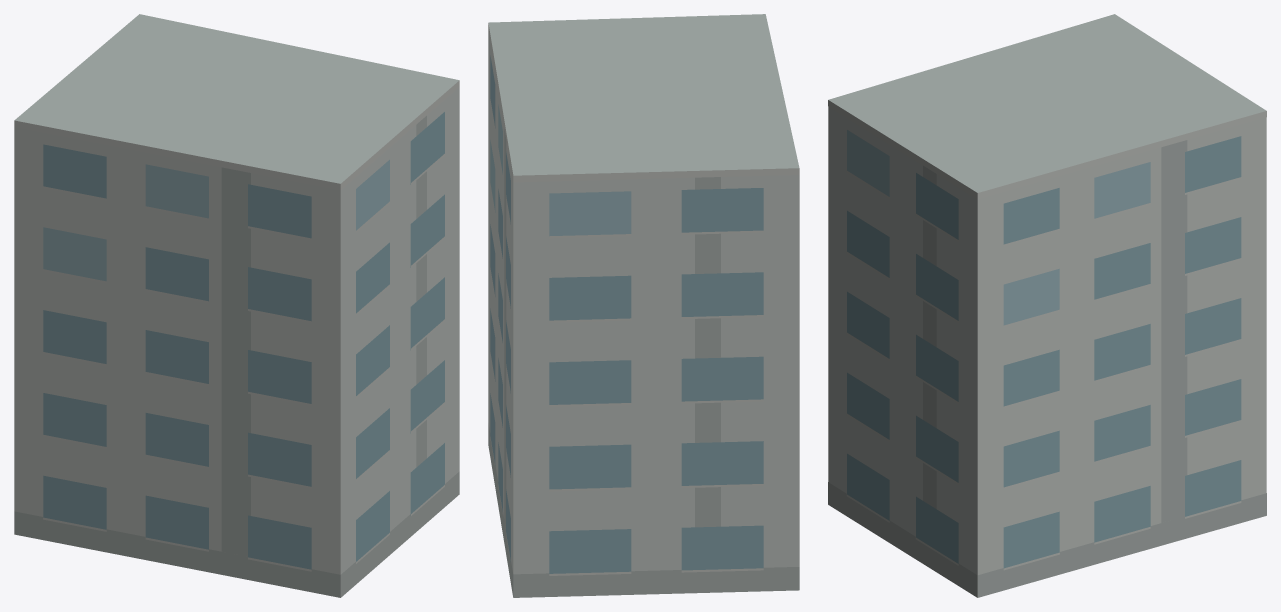
The model's file is survey-upis-32965067.glb.
3 renders of one model, left to right at view 1: azimuth 30°, elevation 25°; view 2: azimuth 150°, elevation 25°; view 3: azimuth 270°, elevation 25°, orthographic. The views are drawn at different scales.
Visible parts, largest first — view 1: survey-upis-32965067.tmp; view 2: survey-upis-32965067.tmp; view 3: survey-upis-32965067.tmp.
Boxes of the visible parts, x1,y1,x2,y2 form: survey-upis-32965067.tmp: (14,14,459,597); survey-upis-32965067.tmp: (488,14,799,597); survey-upis-32965067.tmp: (828,14,1266,597).
Size of the model in its own units: 14.47 by 15.25 by 14.98.
